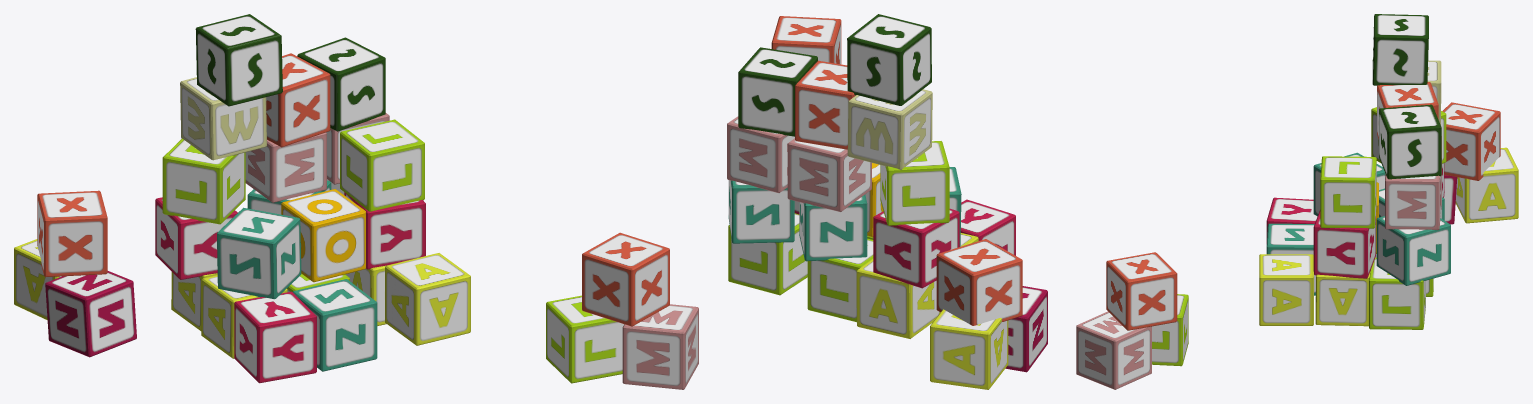
Rendered from kuprevize1.fbx.
3 renders of one model, left to right at view 1: azimuth 30°, elevation 25°; view 2: azimuth 150°, elevation 25°; view 3: azimuth 270°, elevation 25°, orthographic. The views are drawn at different scales.
Parts seen in each view (by area): view 1: Circle.017; view 2: Circle.017; view 3: Circle.017.
Part boxes in pixels (x1=…): Circle.017: x1=14, y1=14, x2=698, y2=389; Circle.017: x1=727, y1=14, x2=1047, y2=389; Circle.017: x1=1076, y1=14, x2=1518, y2=389.
Size of the model in its own units: 451 by 439 by 271.
